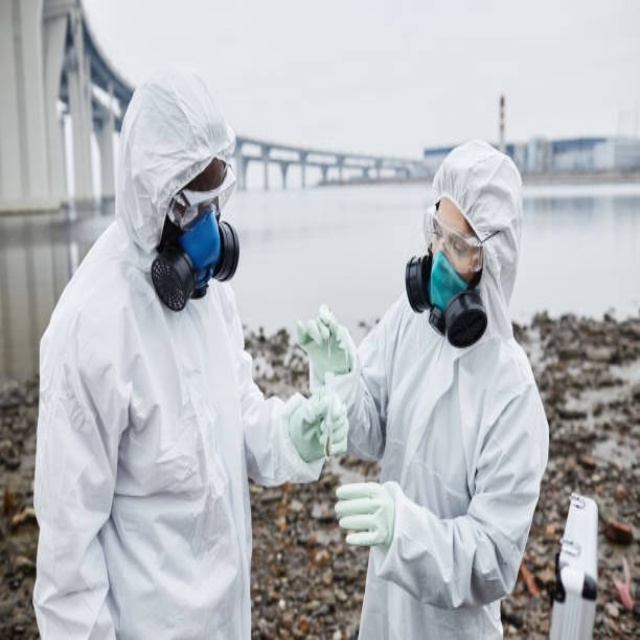Gafas: (166, 169, 232, 232), (428, 208, 497, 265)
Guantes: (291, 375, 352, 469), (334, 469, 395, 549), (295, 303, 358, 378)
Mascara: (174, 208, 221, 284), (429, 249, 474, 312)
